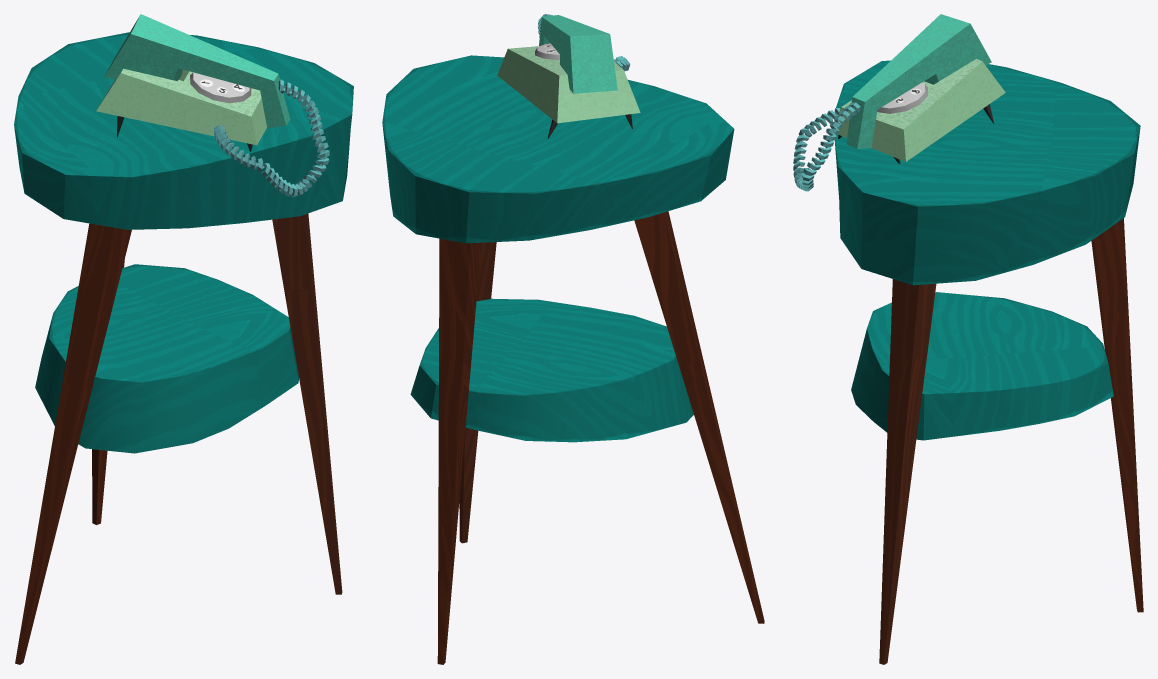
The model's file is telephone1.glb.
The picture shows the model from 3 angles, left to right: view 1: azimuth 30°, elevation 25°; view 2: azimuth 150°, elevation 25°; view 3: azimuth 270°, elevation 25°; orthographic projection. The views are drawn at different scales.
Parts seen in each view (by area): view 1: table, phone, phone_wire; view 2: table, phone; view 3: table, phone, phone_wire.
Part boxes in pixels (x1=…): table: x1=14, y1=32, x2=353, y2=664; phone: x1=96, y1=14, x2=290, y2=151; phone_wire: x1=214, y1=79, x2=329, y2=196; table: x1=382, y1=55, x2=764, y2=664; phone: x1=497, y1=15, x2=640, y2=138; table: x1=834, y1=60, x2=1143, y2=664; phone: x1=836, y1=14, x2=1005, y2=163; phone_wire: x1=793, y1=102, x2=860, y2=191.
Bounding box in the file's own units: 0.5612 × 0.9004 × 0.5043.
Materials: 2 (2 with a texture image).
